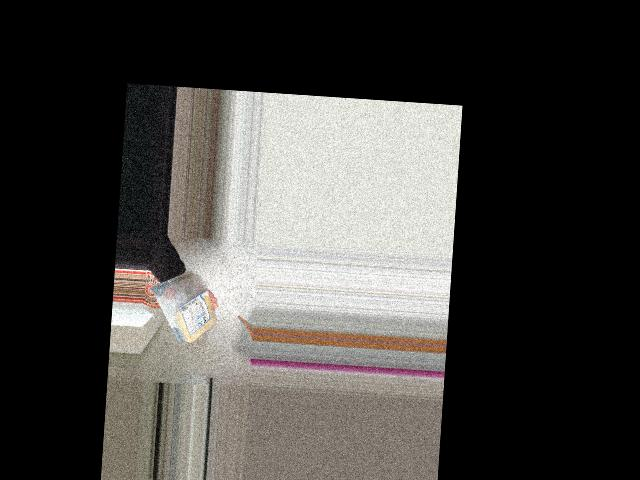cheese: (143, 265, 225, 349)
